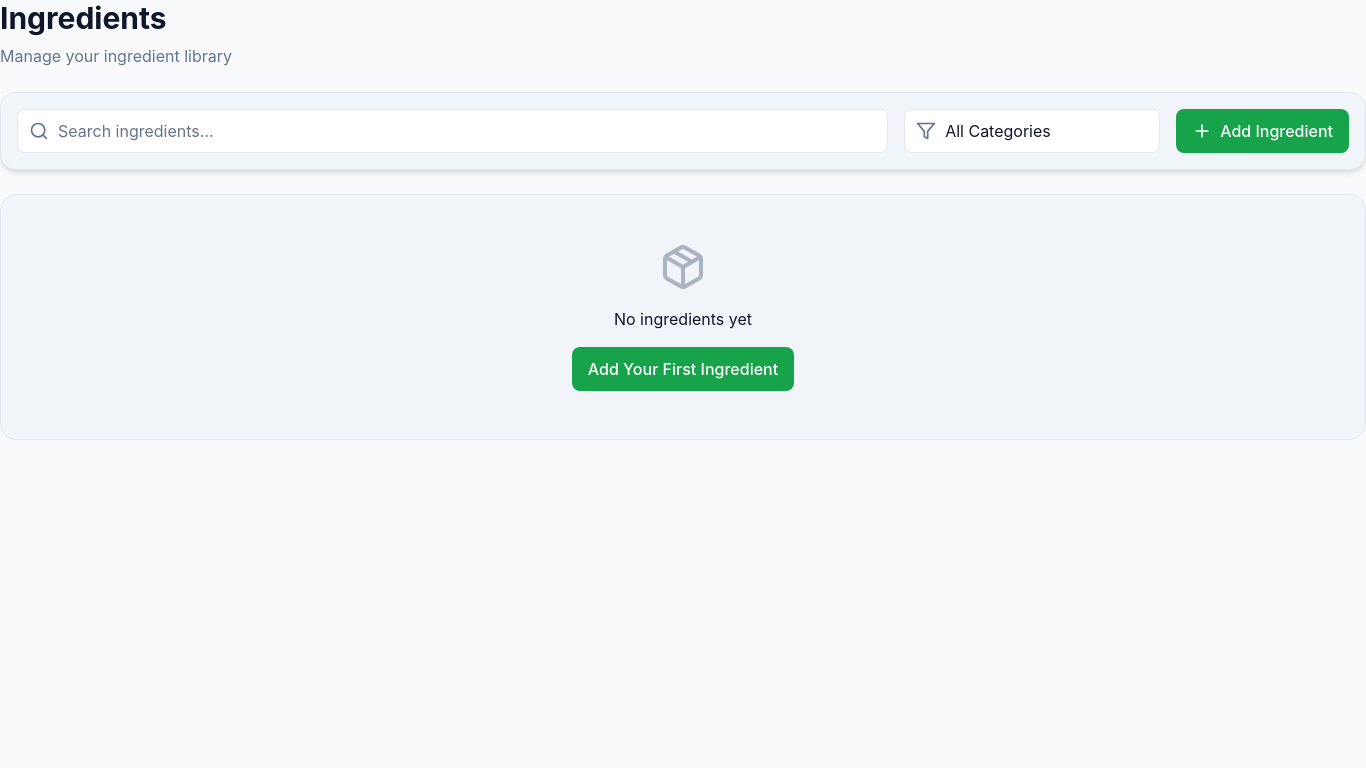
Test case: IngredientsPage › opens form modal when Add Ingredient button is clicked
Click the button "Add Ingredient" at [1263, 131], box [1176,109,1349,153]
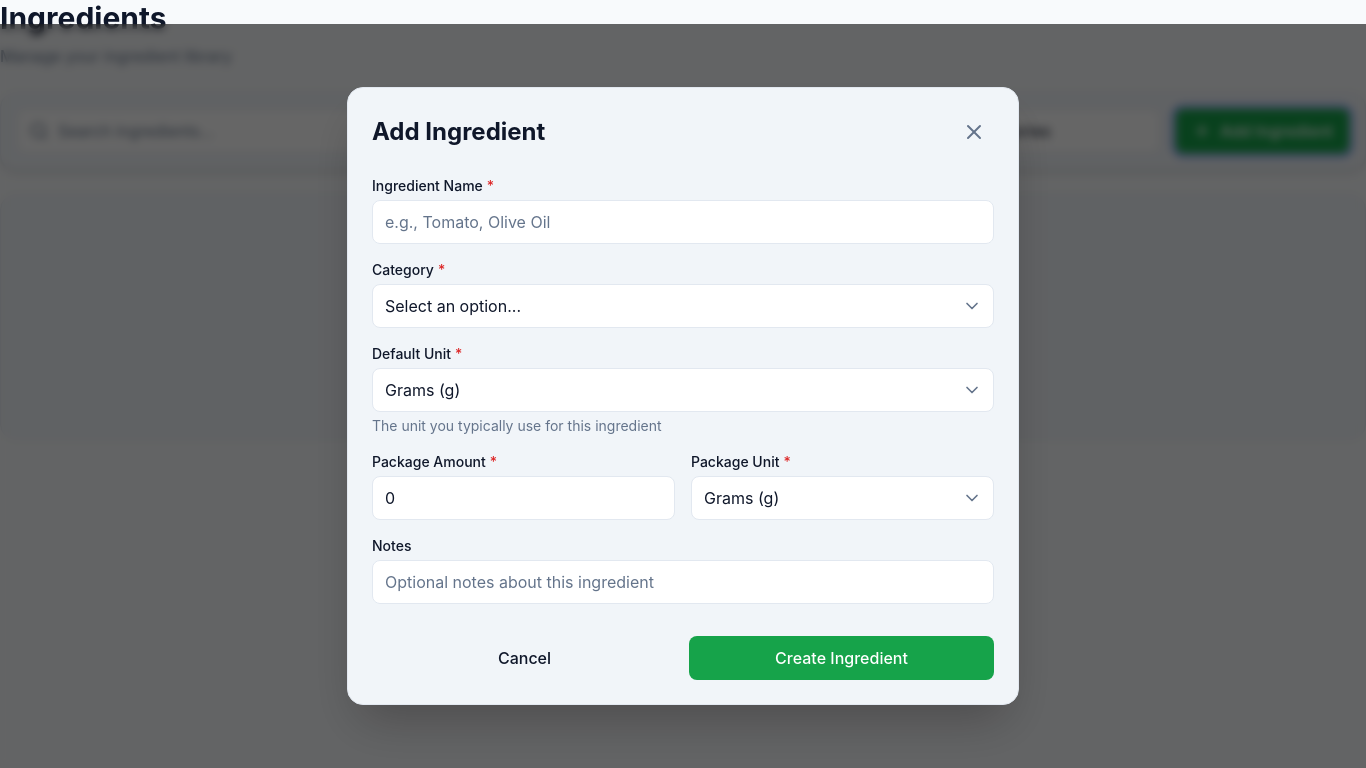
Check: the heading "Add Ingredient" is shown, box [372,116,545,148]
Check: the field labelled "Ingredient Name*" is shown, box [372,200,994,244]
